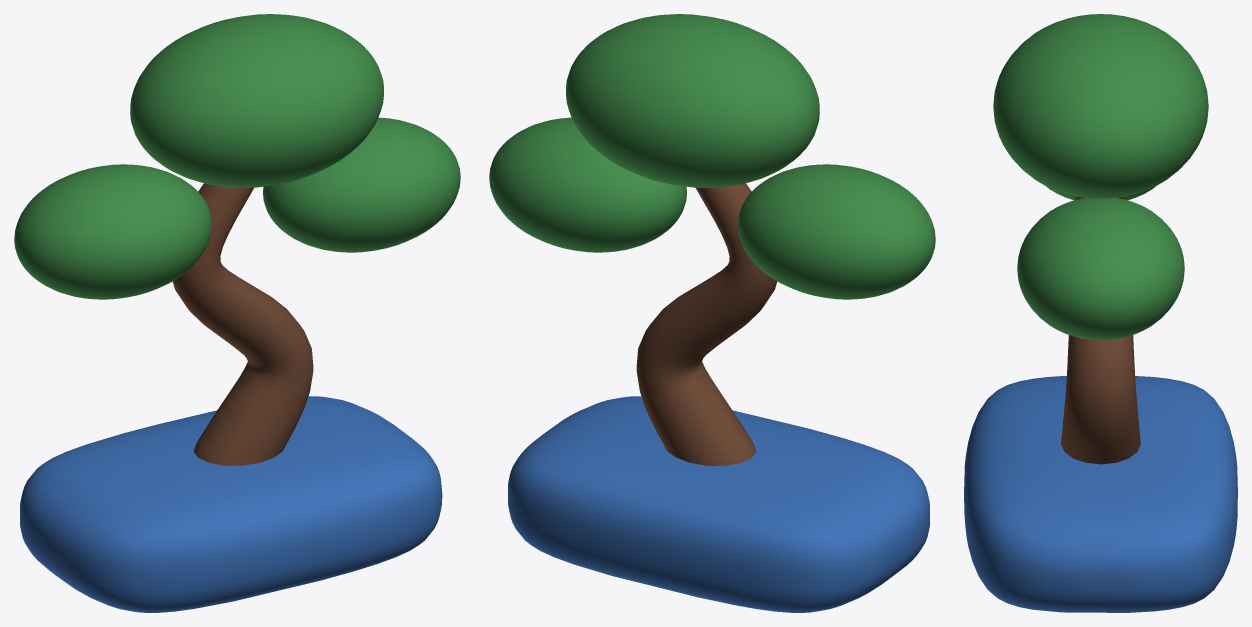
File: deco_bonsai.glb
3 views of the same model, side by side, from view 1: azimuth 30°, elevation 25°; view 2: azimuth 150°, elevation 25°; view 3: azimuth 270°, elevation 25° (orthographic).
Parts seen in each view (by area): view 1: matera bonsái.001, copa bonsái 0.001, copa bonsái 1.001, tronco bonsái.001, copa bonsái 2.001; view 2: matera bonsái.001, copa bonsái 0.001, copa bonsái 1.001, tronco bonsái.001, copa bonsái 2.001; view 3: matera bonsái.001, copa bonsái 0.001, copa bonsái 2.001, tronco bonsái.001.
Part boxes in pixels (x1,y1,x2,y2): matera bonsái.001: (20,396,442,612); copa bonsái 0.001: (130,14,383,187); copa bonsái 1.001: (14,164,211,299); tronco bonsái.001: (172,183,313,465); copa bonsái 2.001: (263,117,460,252); matera bonsái.001: (508,396,929,612); copa bonsái 0.001: (566,14,819,187); copa bonsái 1.001: (738,164,935,299); tronco bonsái.001: (636,183,777,465); copa bonsái 2.001: (489,117,686,252); matera bonsái.001: (964,376,1237,612); copa bonsái 0.001: (993,14,1208,198); copa bonsái 2.001: (1017,198,1184,340); tronco bonsái.001: (1061,196,1140,464).
Bounding box in the file's own units: 0.3274 × 0.3828 × 0.1797.
